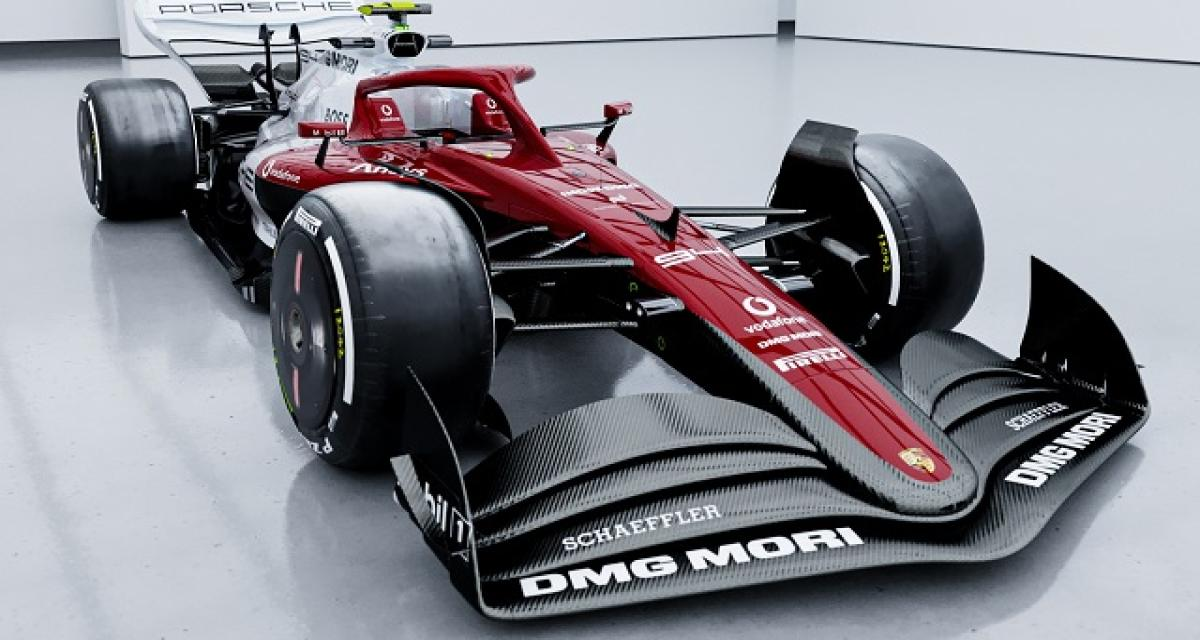Formule 1: (77, 0, 1146, 622)
